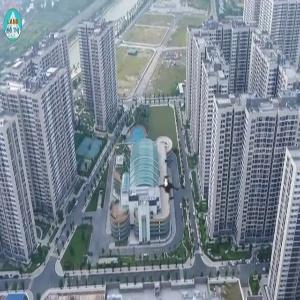drone: (142, 159, 201, 218)
